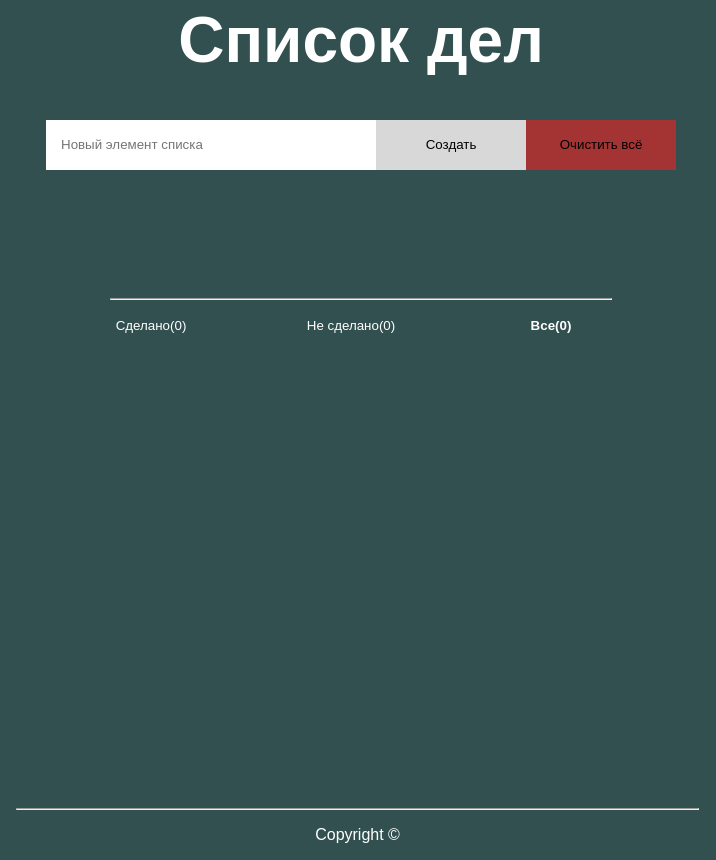
Scenario: Filter and sort buttons functionality › displays the full set of tasks
This screenshot has width=716, height=860.
Type "Test Task 1" into the field with placeholder "Новый элемент списка" at (211, 145), box [46,120,376,170]
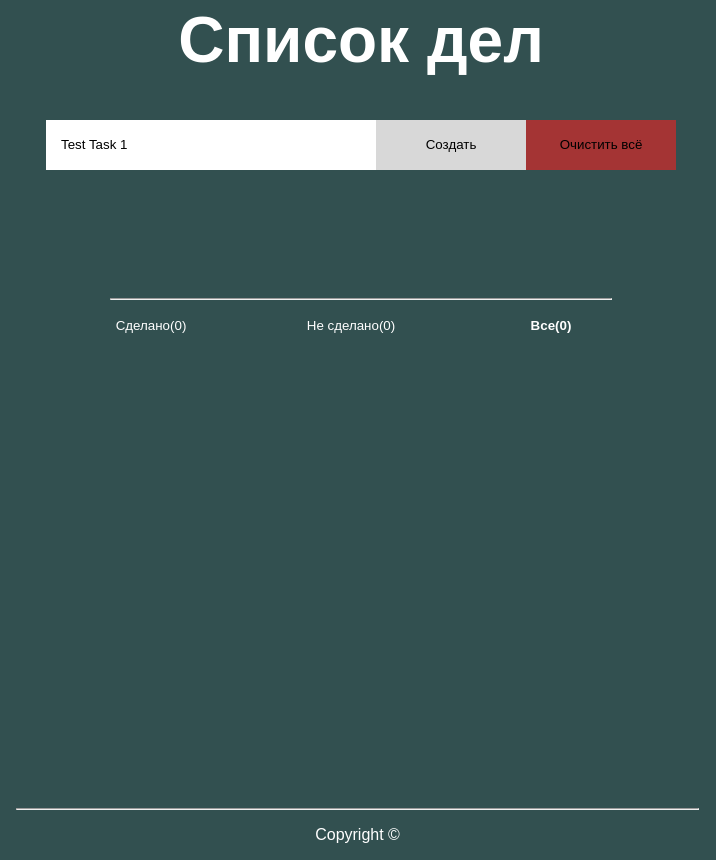
Click the button "Создать" at (451, 145), box [376,120,526,170]
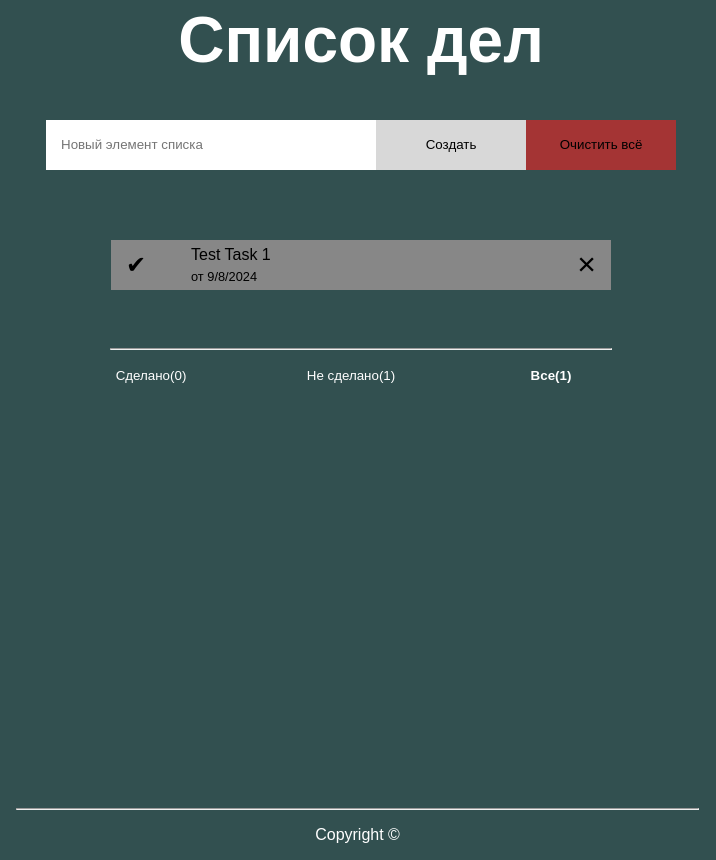
Type "Test Task 2" into the field with placeholder "Новый элемент списка" at (211, 145), box [46,120,376,170]
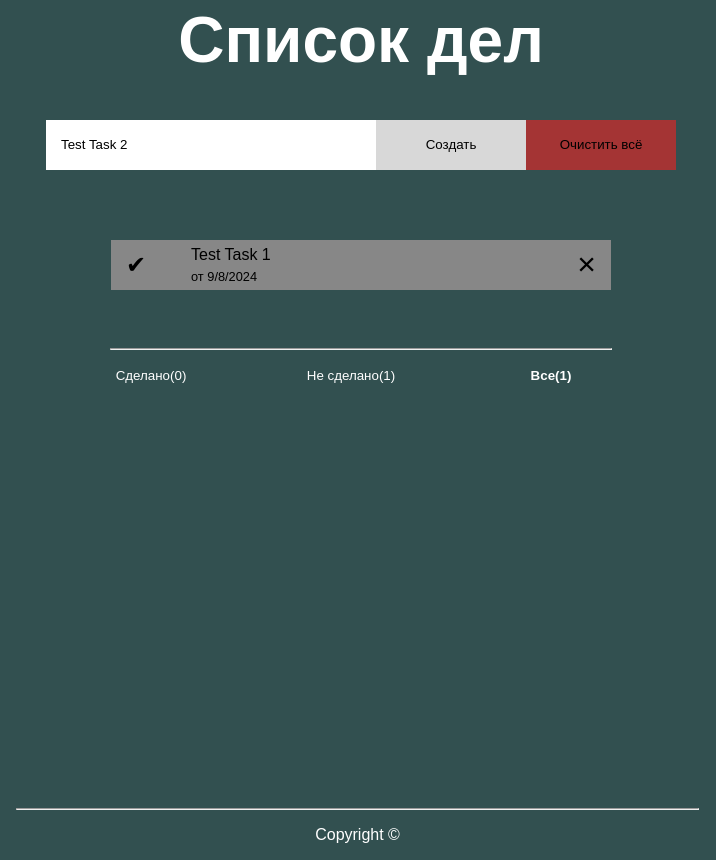
Click the button "Создать" at (451, 145), box [376,120,526,170]
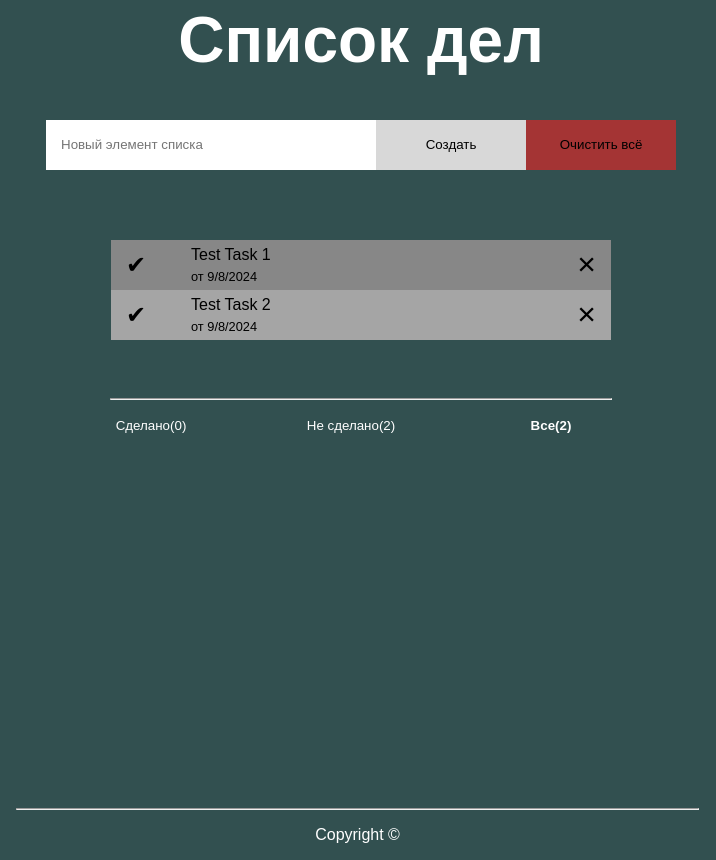
Type "Test Task 3" into the field with placeholder "Новый элемент списка" at (211, 145), box [46,120,376,170]
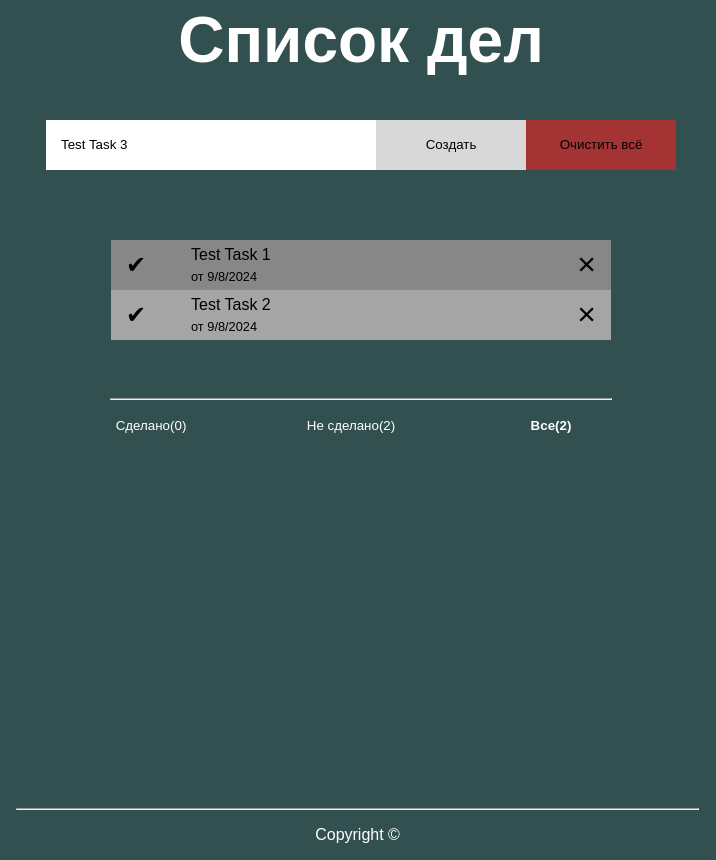
Click the button "Создать" at (451, 145), box [376,120,526,170]
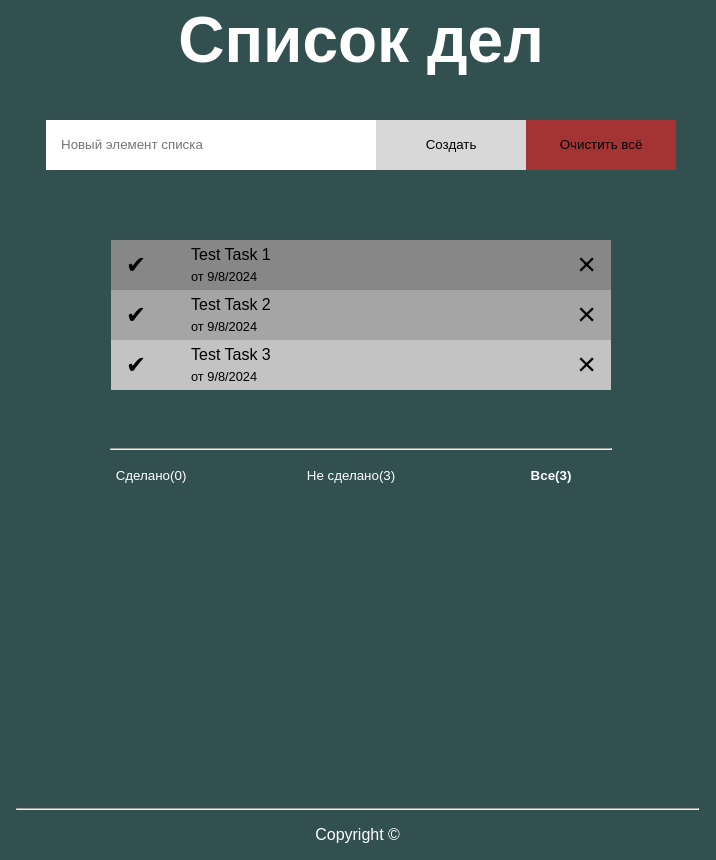
Check: the text "Test Task 1" is shown, box [191,246,271,264]
Check: the text "Test Task 2" is shown, box [191,296,271,314]
Check: the text "Test Task 3" is shown, box [191,346,271,364]
